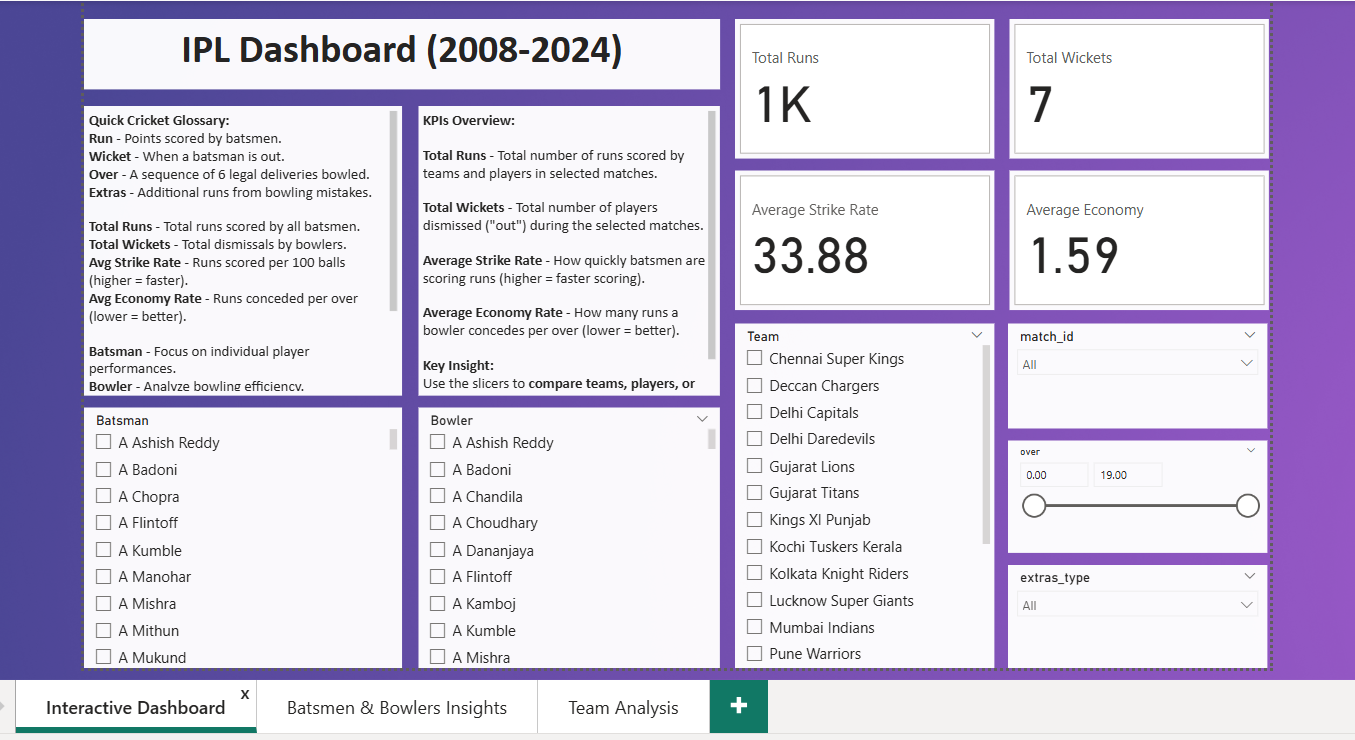

Layout of this report page (visuals, bound fields, positions):
{"tool":"powerbi","page":{"name":"Interactive Dashboard","canvas":[1280,720],"ordinal":0},"visuals":[{"type":"slicer","fields":{"Values":["DimMatch.match_id"]},"box":[997.4,348.1,280.1,113.3],"z":0},{"type":"slicer","fields":{"Values":["DimTeams.Team"]},"box":[702.7,348.1,280.1,372.4],"z":1},{"type":"slicer","fields":{"Values":["DimBatsmen.Batsman"]},"box":[0,438.8,343.3,281.7],"z":2},{"type":"slicer","fields":{"Values":["DimBowlers.Bowler"]},"box":[361.1,438.8,325.5,281.7],"z":3},{"type":"slicer","fields":{"Values":["IPLdataset.over"]},"box":[997.4,474.4,280.1,121.4],"z":4},{"type":"slicer","fields":{"Values":["IPLdataset.extras_type"]},"box":[997.4,608.8,280.1,111.7],"z":5},{"type":"cardVisual","fields":{"Data":["IPLdataset.Total Runs"]},"box":[702.7,19.4,280.1,150.6],"z":6},{"type":"cardVisual","fields":{"Data":["IPLdataset.Total Wickets"]},"box":[999.1,19.4,280.1,150.6],"z":7},{"type":"cardVisual","fields":{"Data":["IPLdataset.Average Strike Rate"]},"box":[702.7,183,280.1,150.6],"z":8},{"type":"cardVisual","fields":{"Data":["IPLdataset.Average Economy"]},"box":[999.1,183,280.1,150.6],"z":9},{"type":"textbox","box":[0,19.4,686.6,76.1],"z":13},{"type":"textbox","box":[0,113.3,343.3,312.5],"z":14},{"type":"textbox","box":[361.1,113.3,325.5,312.5],"z":15}]}

Visuals, with their boxes on the page's 1280x720 design canvas (x1, y1, x2, y2). These are canvas units, not pixel positions in the 1355x740 screenshot, which may show the page scaled, cropped or inside an application window:
slicer - DimMatch.match_id: 997, 348, 1278, 461
slicer - DimTeams.Team: 703, 348, 983, 720
slicer - DimBatsmen.Batsman: 0, 439, 343, 720
slicer - DimBowlers.Bowler: 361, 439, 687, 720
slicer - IPLdataset.over: 997, 474, 1278, 596
slicer - IPLdataset.extras_type: 997, 609, 1278, 720
cardVisual - IPLdataset.Total Runs: 703, 19, 983, 170
cardVisual - IPLdataset.Total Wickets: 999, 19, 1279, 170
cardVisual - IPLdataset.Average Strike Rate: 703, 183, 983, 334
cardVisual - IPLdataset.Average Economy: 999, 183, 1279, 334
textbox: 0, 19, 687, 96
textbox: 0, 113, 343, 426
textbox: 361, 113, 687, 426
